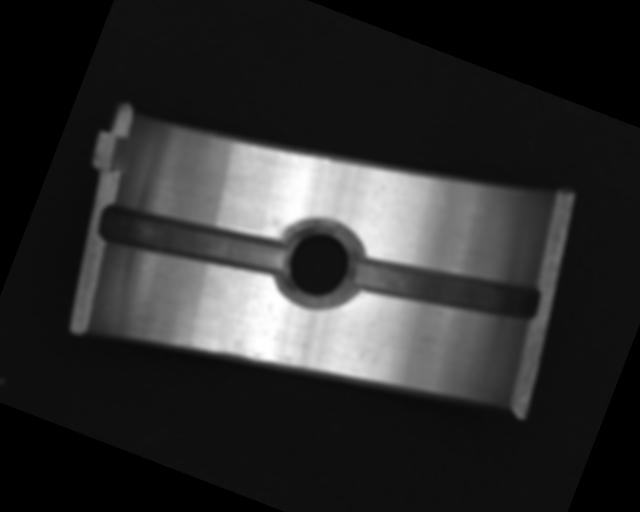gap: (348, 225, 542, 352), (95, 179, 292, 304)
hole: (269, 213, 370, 319)
